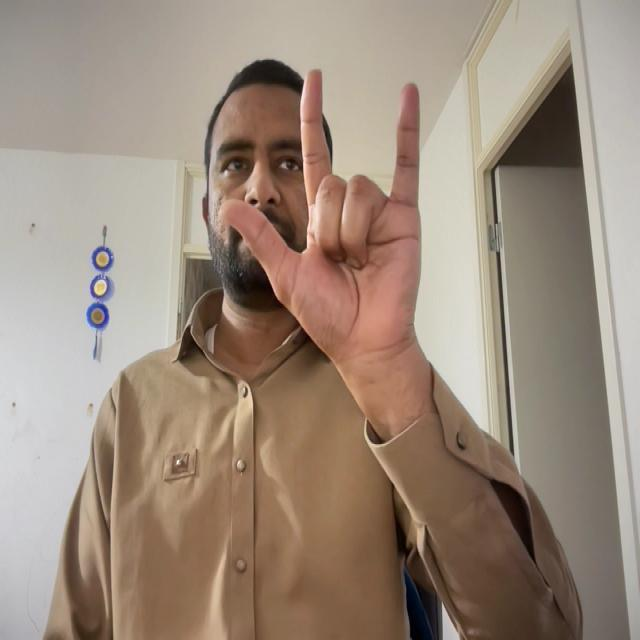IloveYou: (209, 54, 465, 380)
